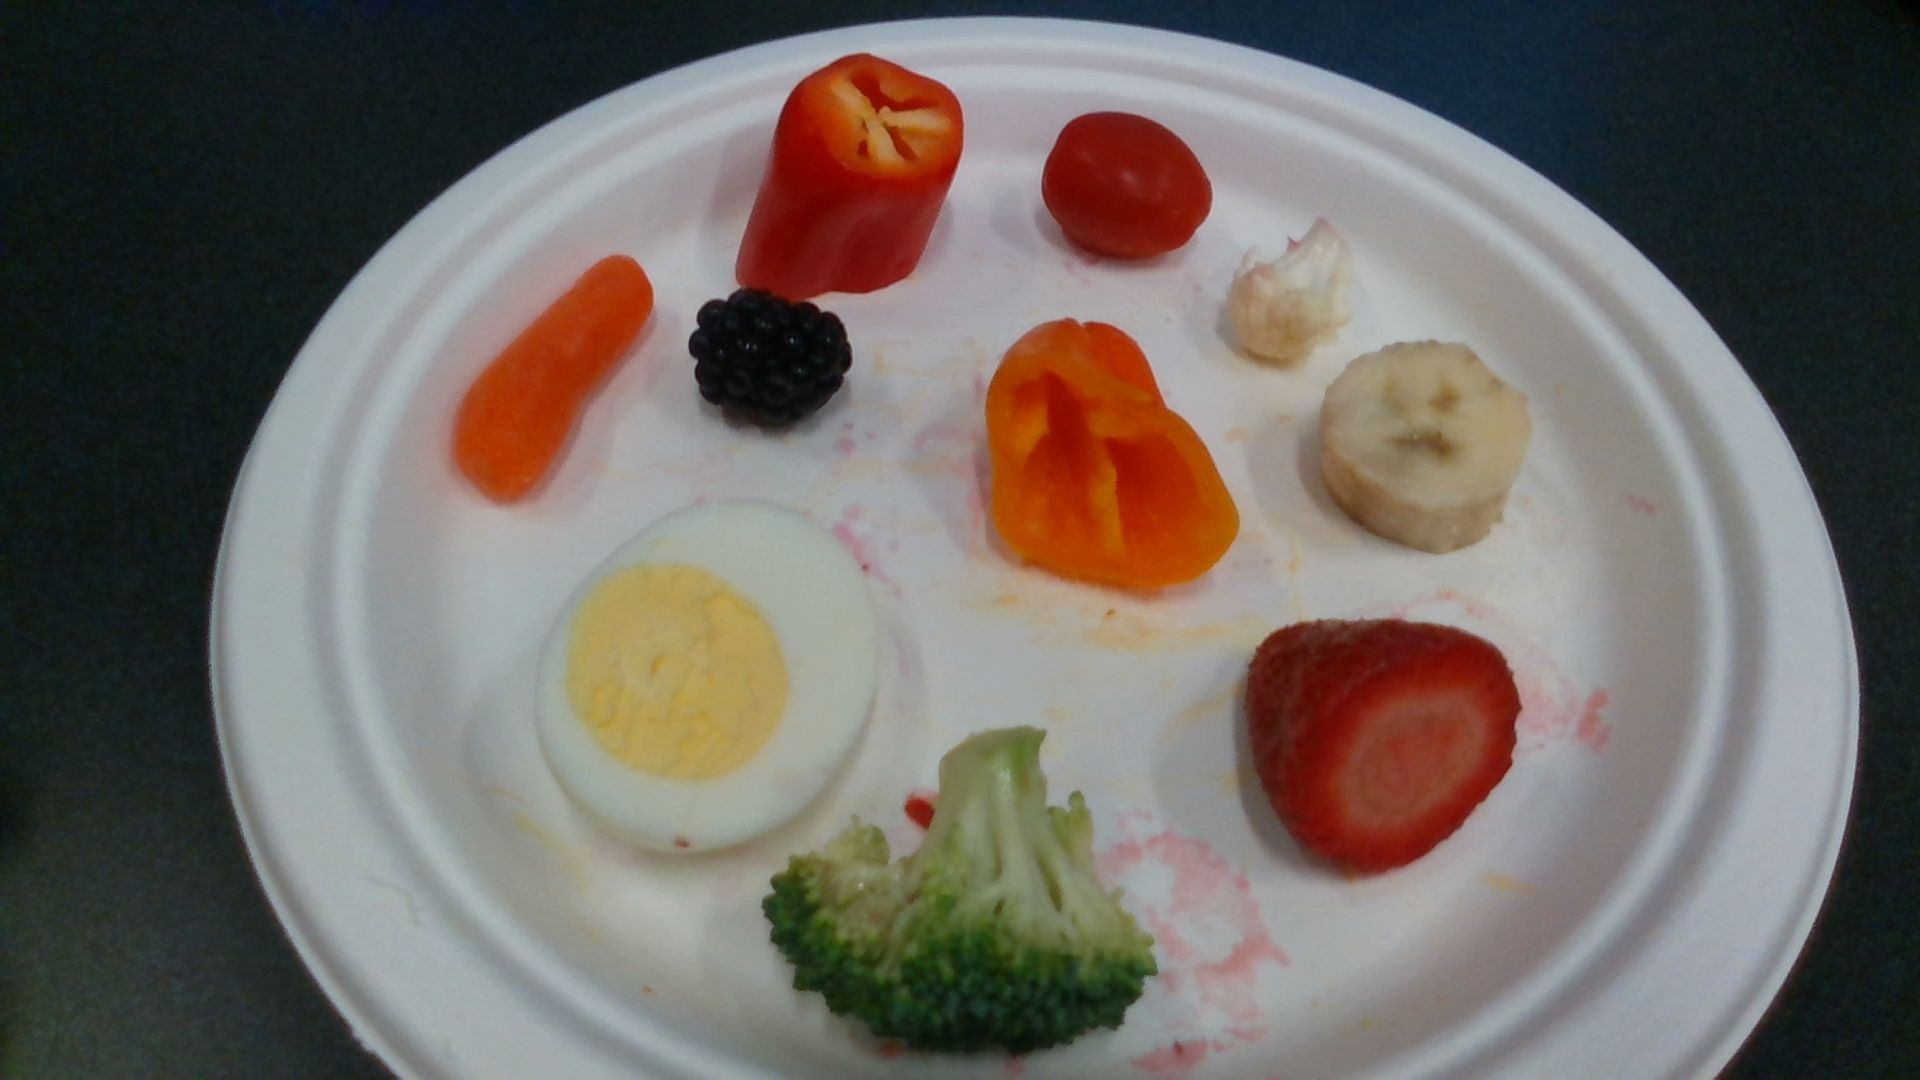banana: (1325, 345, 1524, 551)
bell_pepper: (986, 320, 1240, 591), (738, 55, 963, 293)
blackberry: (692, 291, 852, 433)
broccoli: (769, 731, 1155, 1046)
carrot: (450, 256, 655, 501)
cauliflower: (1229, 225, 1357, 360)
cherry_tomato: (1044, 115, 1215, 256)
egg: (541, 501, 880, 848)
strawberry: (1249, 621, 1519, 876)
